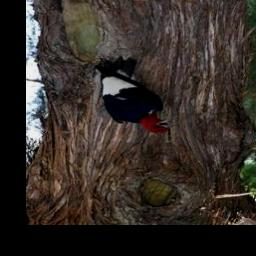Woodpecker: (88, 57, 181, 137)
